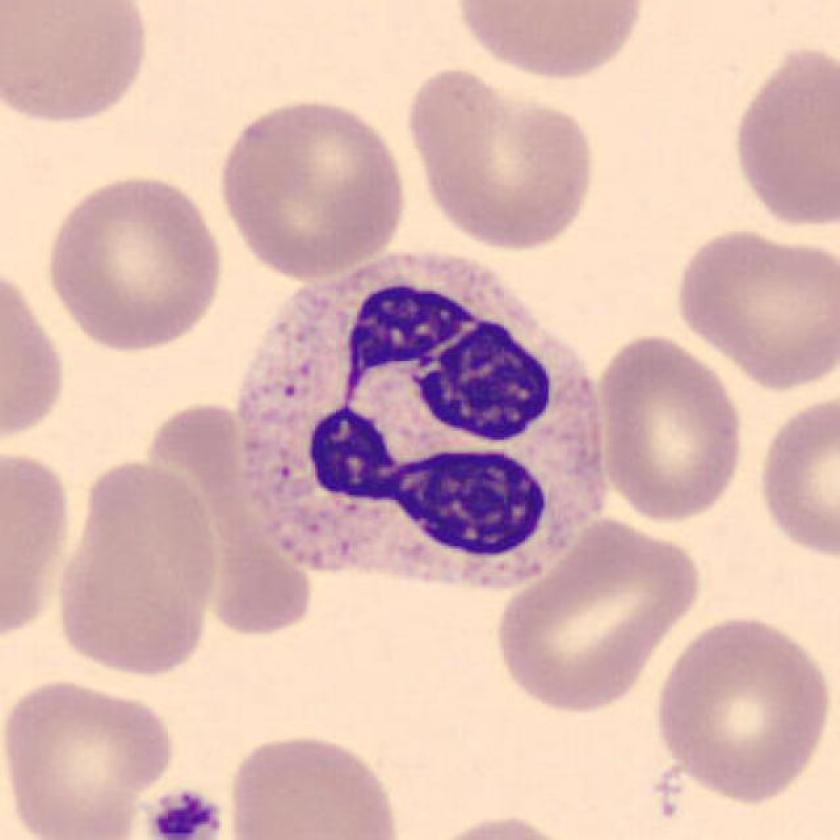neutrophil: (235, 256, 606, 589)
